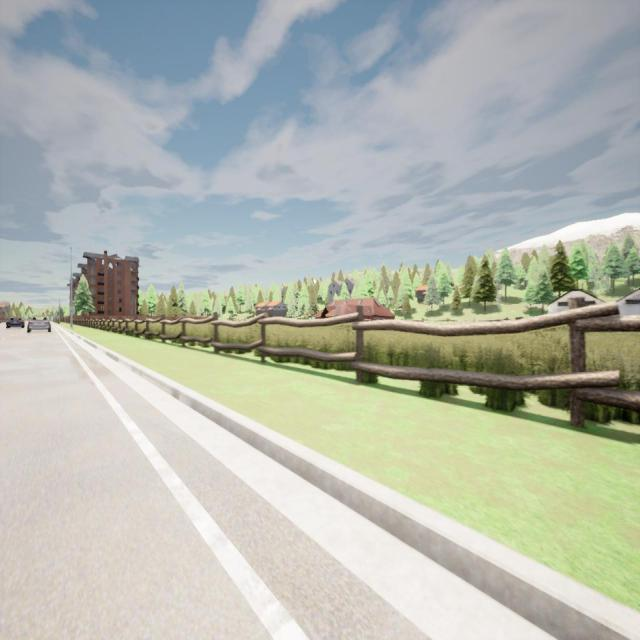Traffic_Signs: (69, 306, 75, 315)
Vehicle: (27, 315, 51, 333), (6, 315, 24, 329)
